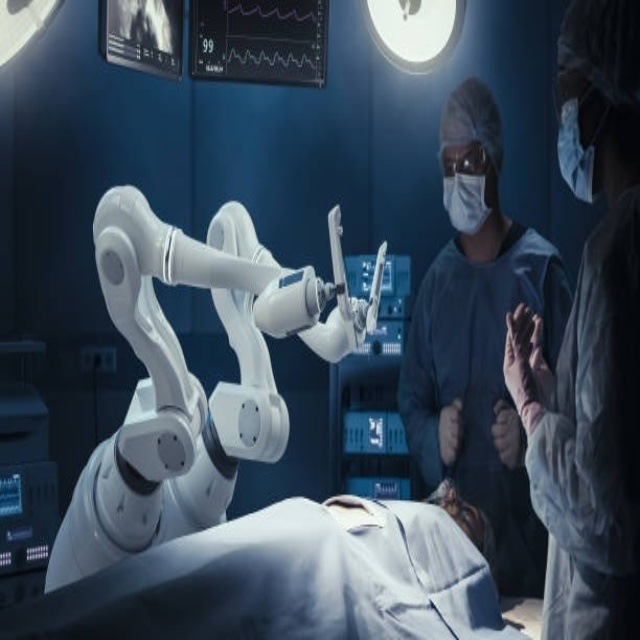Gafas: (554, 67, 600, 125), (440, 145, 490, 179)
Guantes: (502, 305, 553, 413), (492, 401, 522, 471), (438, 397, 466, 470)
Mascara: (556, 91, 602, 204), (443, 160, 492, 236)
